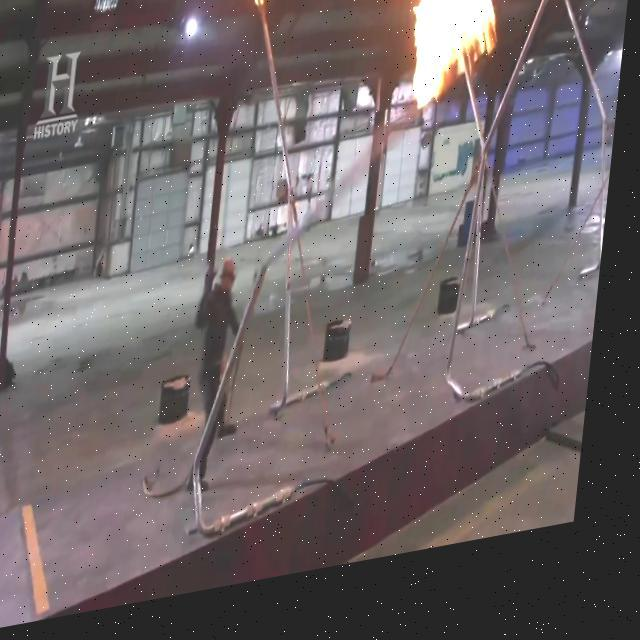Fire: (392, 0, 519, 132), (246, 0, 281, 20), (557, 0, 580, 11)
